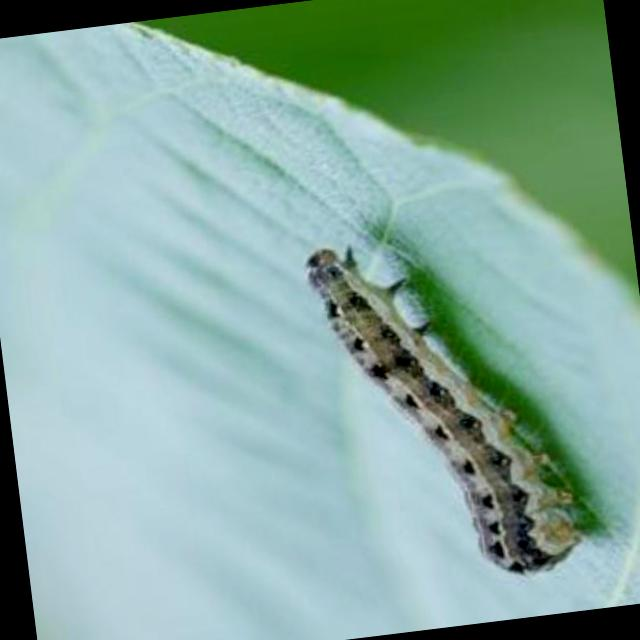Tobacco cutworm: (278, 182, 608, 617)
